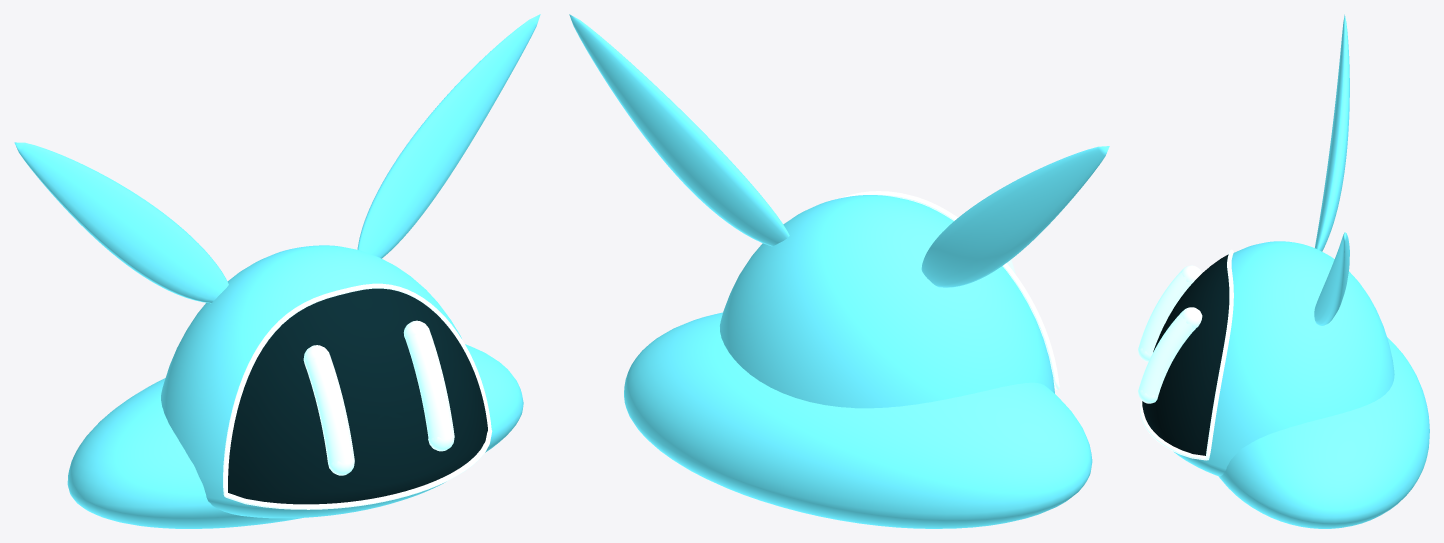
The model's file is nono.glb.
3 renders of one model, left to right at view 1: azimuth 30°, elevation 25°; view 2: azimuth 150°, elevation 25°; view 3: azimuth 270°, elevation 25°, orthographic. The views are drawn at different scales.
Visible parts, largest first — view 1: nono_visor, nono_shell, nono_skirt, nono_ear_-1, nono_ear_1, nono_eye_-1, nono_eye_1, nono_visor_rim, nono_chin; view 2: nono_skirt, nono_shell, nono_ear_1, nono_ear_-1, nono_visor_rim; view 3: nono_shell, nono_skirt, nono_visor, nono_ear_-1, nono_eye_1, nono_ear_1, nono_eye_-1, nono_visor_rim, nono_chin.
Boxes of the visible parts, left/top/right/bottom form: nono_visor: left=228, top=288, right=487, bottom=504; nono_shell: left=161, top=245, right=461, bottom=518; nono_skirt: left=67, top=344, right=523, bottom=528; nono_ear_-1: left=14, top=142, right=228, bottom=303; nono_ear_1: left=357, top=14, right=540, bottom=258; nono_eye_-1: left=305, top=354, right=354, bottom=465; nono_eye_1: left=405, top=329, right=454, bottom=440; nono_visor_rim: left=223, top=283, right=491, bottom=504; nono_chin: left=225, top=429, right=492, bottom=509; nono_skirt: left=624, top=312, right=1092, bottom=528; nono_shell: left=720, top=195, right=1054, bottom=408; nono_ear_1: left=569, top=14, right=789, bottom=246; nono_ear_-1: left=921, top=146, right=1109, bottom=287; nono_visor_rim: left=841, top=191, right=1059, bottom=389; nono_shell: left=1173, top=241, right=1394, bottom=476; nono_skirt: left=1219, top=337, right=1429, bottom=528; nono_visor: left=1142, top=254, right=1229, bottom=455; nono_ear_-1: left=1315, top=14, right=1349, bottom=251; nono_eye_1: left=1139, top=311, right=1196, bottom=397; nono_ear_1: left=1314, top=232, right=1349, bottom=325; nono_eye_-1: left=1139, top=269, right=1191, bottom=354; nono_visor_rim: left=1143, top=249, right=1233, bottom=460; nono_chin: left=1140, top=400, right=1206, bottom=460.
Bounding box in the file's own units: 1.16 × 0.8603 × 0.6501.
